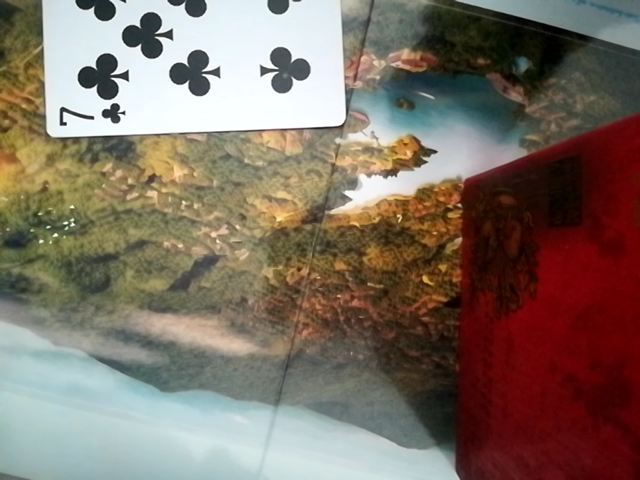mh 7: (40, 0, 348, 137)
